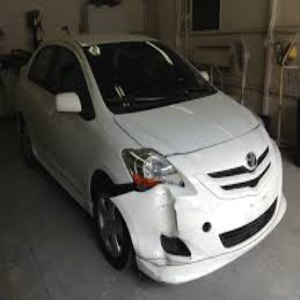side_mirror: (215, 106, 251, 144)
